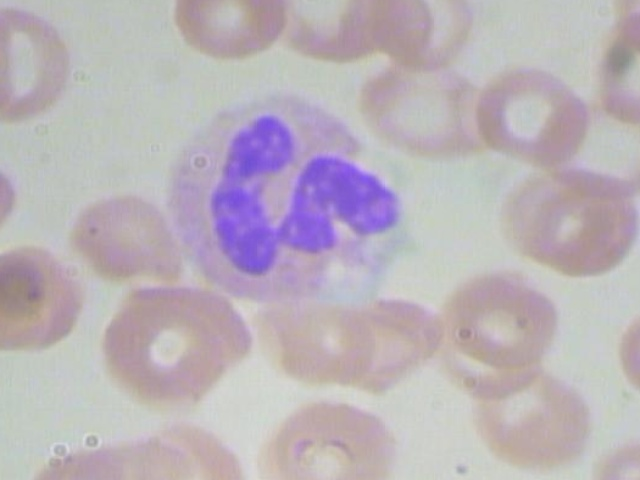RBC: (89, 292, 255, 408), (464, 360, 608, 474), (468, 61, 593, 173), (255, 386, 398, 480), (74, 192, 182, 290), (157, 0, 289, 62), (602, 297, 640, 409)
WBC: (157, 84, 416, 311)
